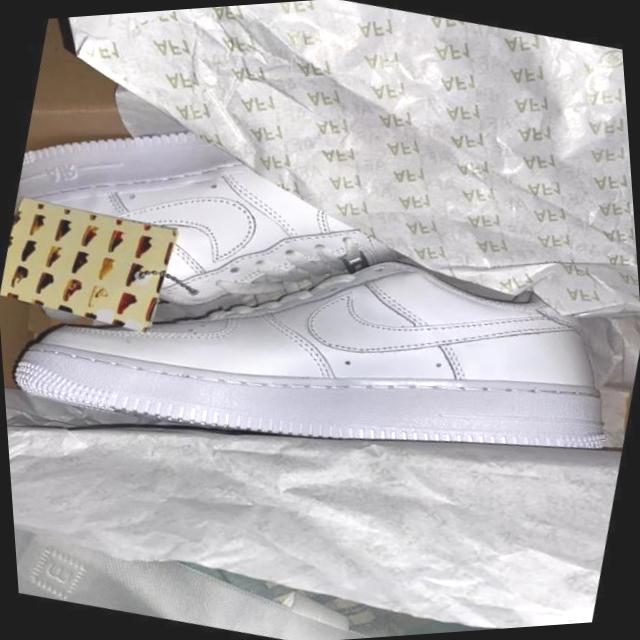nike_fake_airforce: (0, 149, 640, 541)
